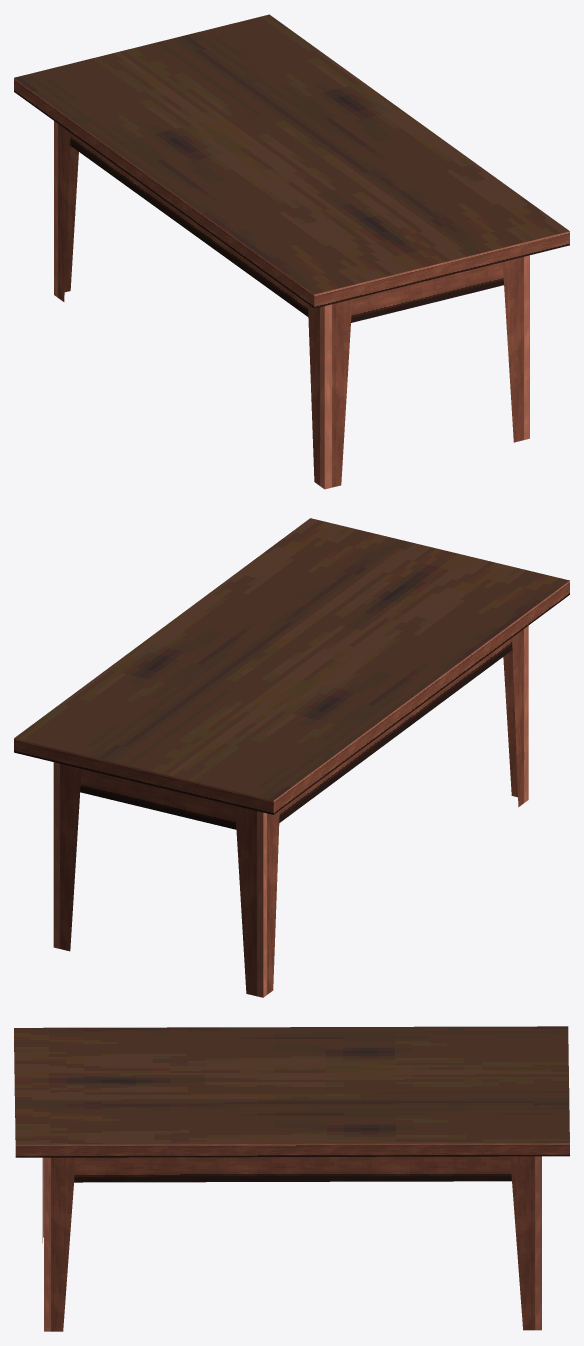
File: wooden_table_1.glb
3 views of the same model, one above another, from view 1: azimuth 30°, elevation 25°; view 2: azimuth 150°, elevation 25°; view 3: azimuth 270°, elevation 25° (orthographic). The views are drawn at different scales.
Parts seen in each view (by area): view 1: Object; view 2: Object; view 3: Object.
Part boxes in pixels (bbox=[...]): Object: bbox=[14, 14, 569, 489]; Object: bbox=[14, 518, 569, 997]; Object: bbox=[14, 1026, 569, 1331].
Bounding box in the file's own units: 1.37 × 1.07 × 2.72.
4 materials, 4 textured.
